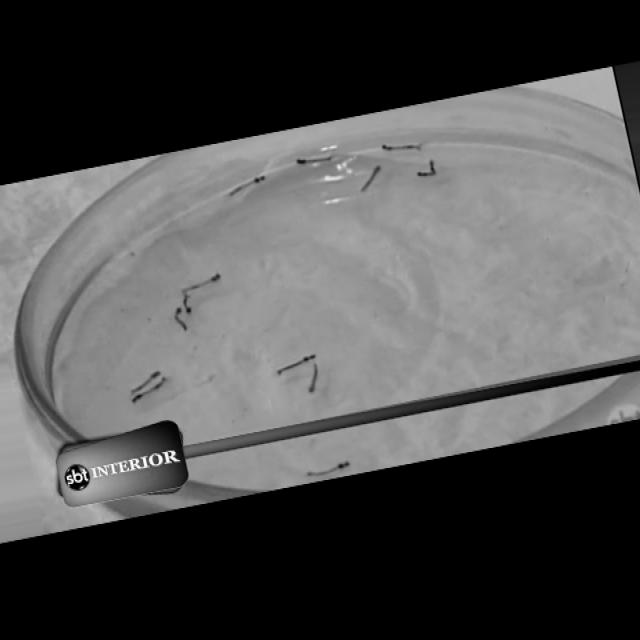larvas: (128, 372, 169, 407), (228, 170, 268, 197), (275, 350, 317, 373), (129, 367, 161, 396), (358, 165, 382, 193), (294, 153, 335, 167), (185, 275, 219, 290), (383, 140, 422, 153), (415, 157, 437, 180), (312, 462, 346, 476), (306, 367, 318, 393), (176, 307, 188, 330), (184, 294, 194, 318)
